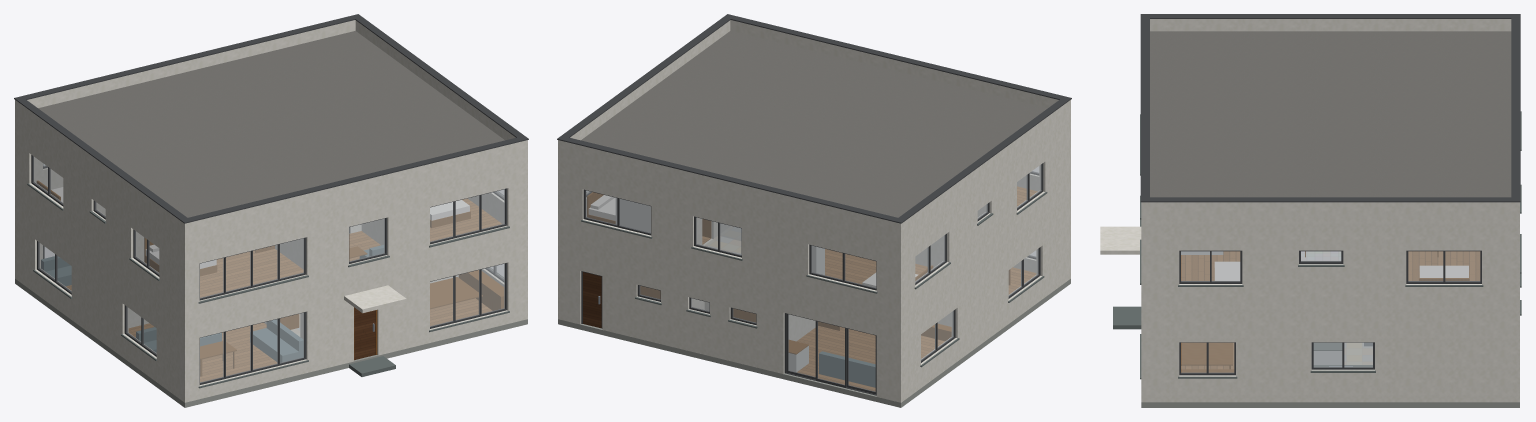
File: villa.glb
3 renders of one model, left to right at view 1: azimuth 30°, elevation 25°; view 2: azimuth 150°, elevation 25°; view 3: azimuth 270°, elevation 25°, orthographic. The views are drawn at different scales.
Visible parts, largest first — view 1: Entrance canopy, Roof finish gravel, Sliding door glazing, Door frame.001, Bedroom 2 floor, Bed base, Ground floor slab, Sofa back, Entrance step, Door leaf, Mattress; view 2: Entrance canopy, Roof finish gravel, Sliding door glazing, Door frame.001, Bedroom 2 floor, Ground floor slab, Basin top, Bed base, Sofa back, Entrance step, Door leaf, Mattress (+1 smaller); view 3: Entrance canopy, Roof finish gravel, Door frame.001, Sliding door glazing, Bedroom 2 floor, Entrance step, Ground floor slab, Bed base, Mattress, Hall / stair floor, Basin top, En-suite floor.
Part boxes in pixels (bbox=[...]): Entrance canopy: bbox=[15, 20, 527, 402]; Roof finish gravel: bbox=[38, 31, 504, 217]; Sliding door glazing: bbox=[33, 156, 504, 382]; Door frame.001: bbox=[14, 14, 528, 384]; Bedroom 2 floor: bbox=[66, 198, 501, 382]; Bed base: bbox=[36, 180, 504, 376]; Ground floor slab: bbox=[15, 279, 527, 407]; Sofa back: bbox=[41, 245, 384, 362]; Entrance step: bbox=[27, 183, 509, 388]; Door leaf: bbox=[354, 307, 375, 359]; Mattress: bbox=[52, 187, 469, 268]; Entrance canopy: bbox=[558, 20, 1070, 402]; Roof finish gravel: bbox=[581, 31, 1047, 217]; Sliding door glazing: bbox=[586, 164, 1041, 391]; Door frame.001: bbox=[557, 14, 1071, 395]; Bedroom 2 floor: bbox=[702, 186, 1037, 391]; Ground floor slab: bbox=[558, 279, 1070, 407]; Basin top: bbox=[615, 198, 824, 372]; Bed base: bbox=[587, 192, 1010, 354]; Sofa back: bbox=[819, 351, 875, 387]; Entrance step: bbox=[581, 191, 1047, 367]; Door leaf: bbox=[583, 272, 601, 328]; Mattress: bbox=[588, 195, 917, 287]; Entrance canopy: bbox=[1100, 19, 1519, 402]; Roof finish gravel: bbox=[1150, 31, 1511, 197]; Door frame.001: bbox=[1140, 14, 1520, 375]; Sliding door glazing: bbox=[1181, 251, 1480, 372]; Bedroom 2 floor: bbox=[1181, 251, 1480, 369]; Entrance step: bbox=[1113, 111, 1521, 379]; Ground floor slab: bbox=[1141, 402, 1519, 407]; Bed base: bbox=[1181, 251, 1469, 372]; Mattress: bbox=[1214, 261, 1468, 280]; Hall / stair floor: bbox=[1344, 342, 1372, 364]; Basin top: bbox=[1181, 251, 1342, 364]; En-suite floor: bbox=[1301, 251, 1341, 260].
Bounding box in the file's own units: 14.1 × 7.24 × 13.35.
Materials: 17 (10 with a texture image).
